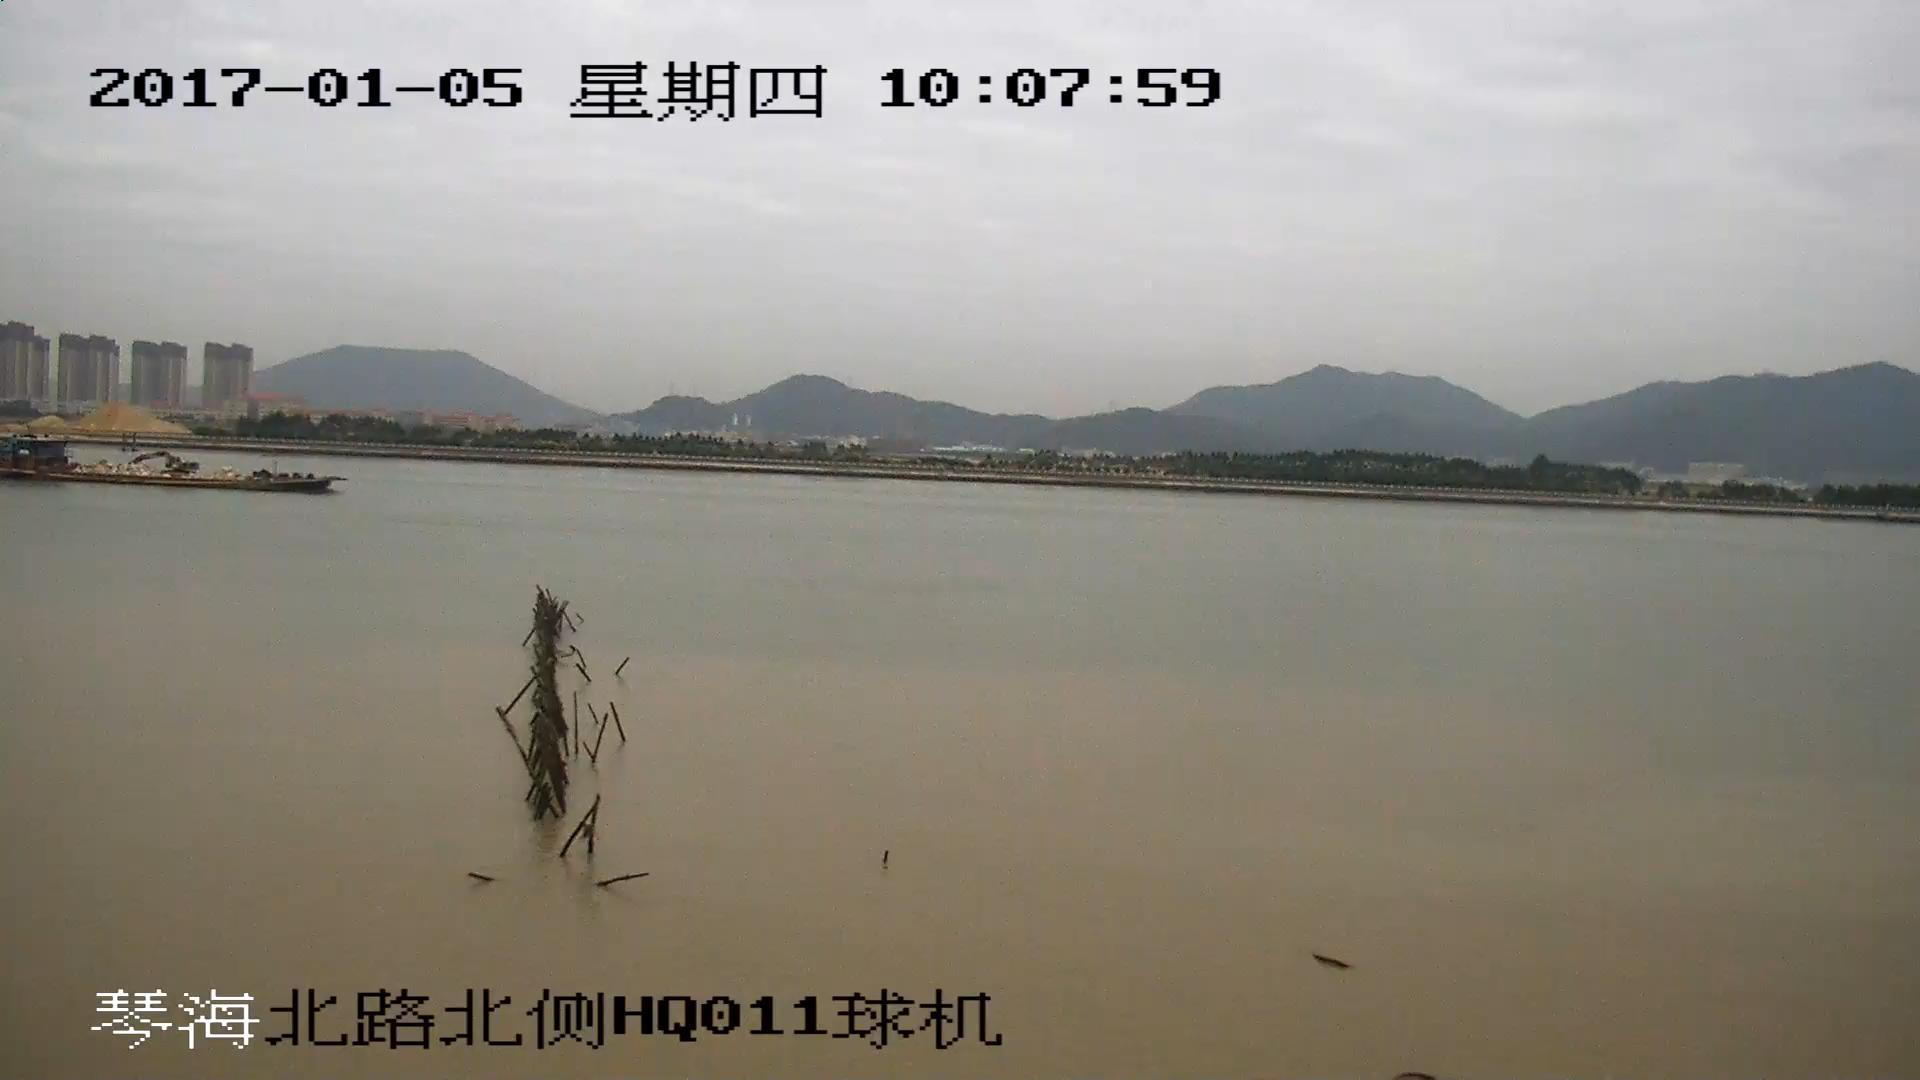Ship: (3, 436, 345, 491)
